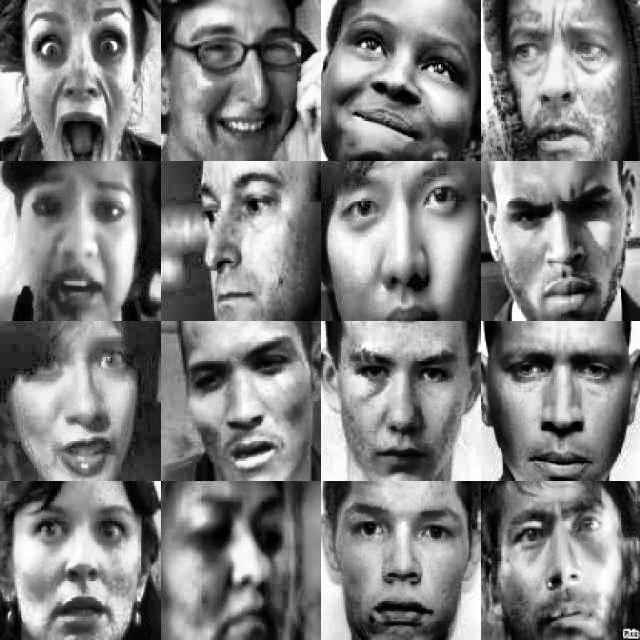angry: (502, 167, 625, 316), (345, 335, 461, 473)
fear: (19, 323, 142, 479), (16, 166, 138, 312), (504, 7, 620, 156), (25, 2, 134, 159), (25, 492, 139, 640), (503, 493, 623, 633)
happy: (336, 6, 472, 152), (186, 13, 304, 153)
neutral: (330, 161, 470, 318), (193, 166, 289, 314)
sad: (339, 493, 463, 639), (179, 487, 296, 638), (498, 343, 622, 483), (188, 329, 302, 473)
